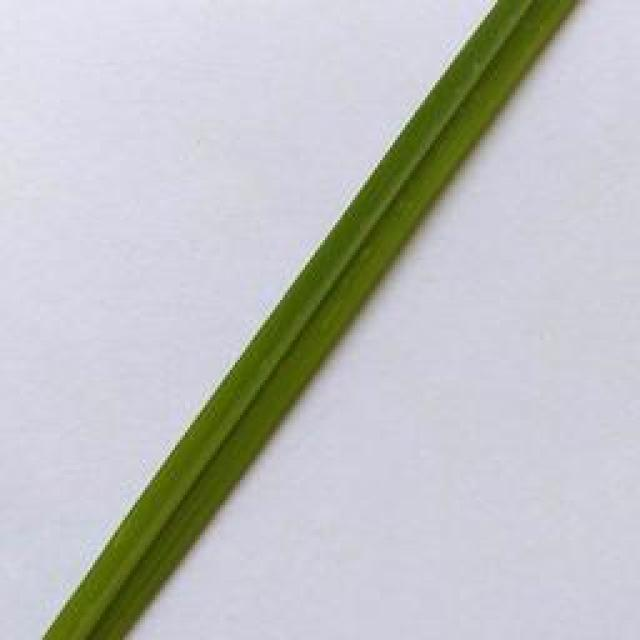Healthy-Plant: (41, 0, 578, 640)
